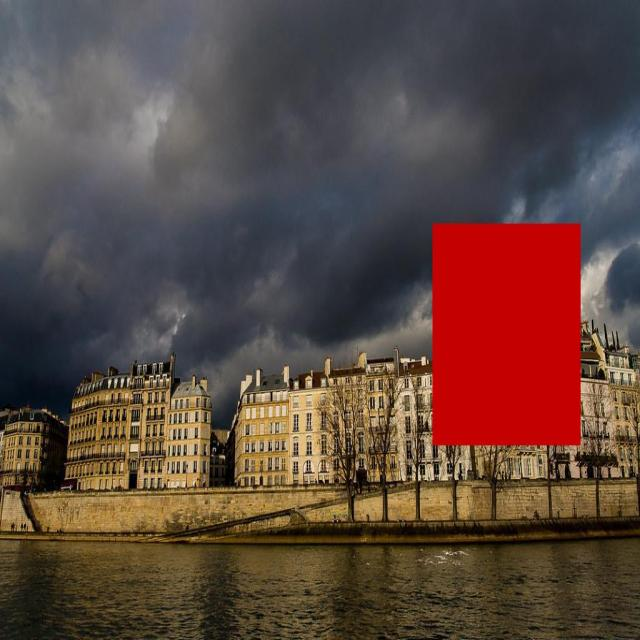RedSquare: (428, 214, 588, 458)
